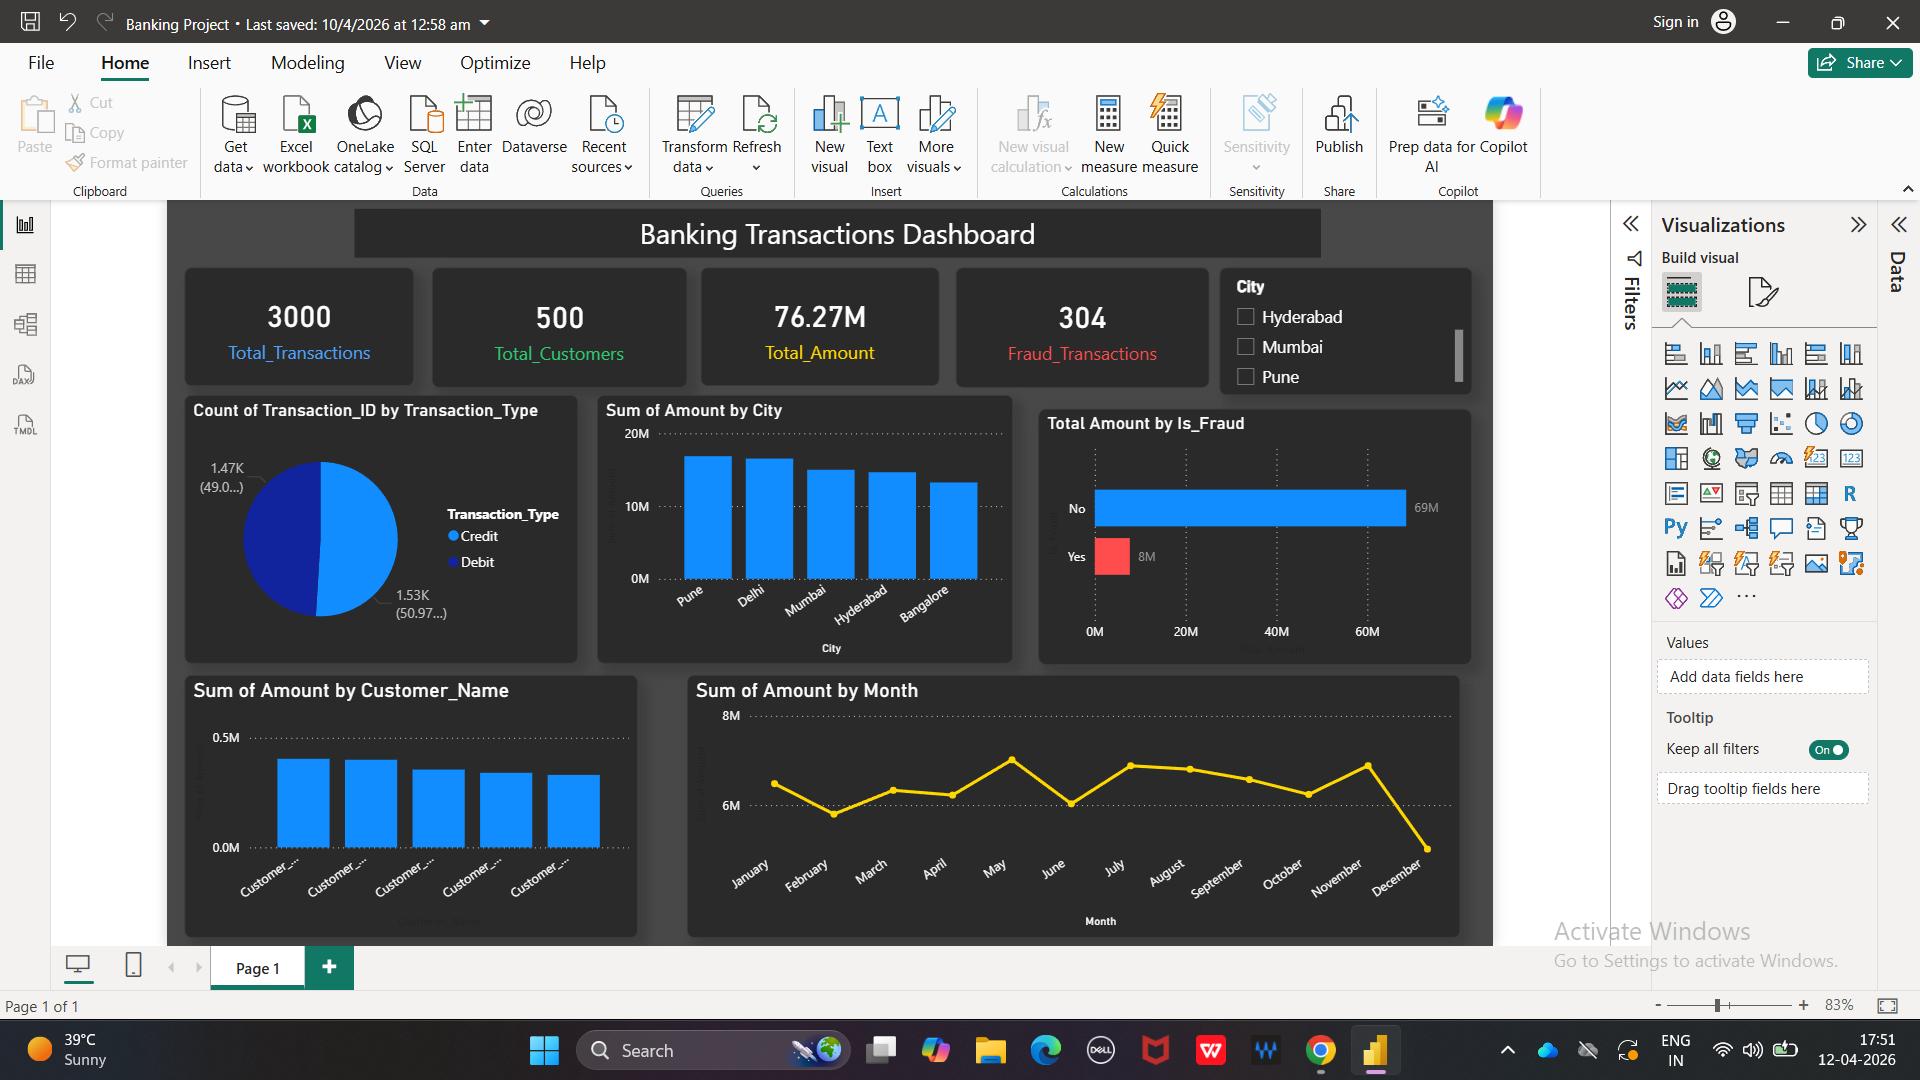

Layout of this report page (visuals, bound fields, positions):
{"tool":"powerbi","page":{"name":"Page 1","canvas":[1280,720],"ordinal":0},"visuals":[{"type":"card","fields":{"Values":["accounts.Total_Transactions"]},"box":[16.9,65.1,222,114.6],"z":0},{"type":"card","fields":{"Values":["accounts.Total_Amount"]},"box":[515.2,65.1,230.4,114.6],"z":1000},{"type":"card","fields":{"Values":["accounts.Total_Customers"]},"box":[255.8,65.1,246.1,115.8],"z":2000},{"type":"card","fields":{"Values":["accounts.Fraud_Transactions"]},"box":[761.3,65.1,244.9,115.8],"z":3000},{"type":"pieChart","fields":{"Category":["transactions.Transaction_Type"],"Y":["Count(transactions.Transaction_ID)"]},"box":[16.9,188.2,380,259.4],"z":4000},{"type":"clusteredColumnChart","fields":{"Category":["customers.Customer_Name"],"Y":["Sum(transactions.Amount)"]},"box":[16.9,458.4,437.9,253.4],"z":5000},{"type":"clusteredColumnChart","fields":{"Category":["customers.City"],"Y":["Sum(transactions.Amount)"]},"box":[415,188.2,401.7,259.4],"z":6000},{"type":"lineChart","fields":{"Y":["Sum(transactions.Amount)"],"Category":["transactions.Final_Date.Variation.Date Hierarchy.Month"]},"box":[501.9,458.4,746.8,253.4],"z":7000},{"type":"clusteredBarChart","fields":{"Y":["Sum(transactions.Amount)"],"Category":["transactions.Is_Fraud"]},"box":[840.9,201.5,418.6,247.3],"z":8000},{"type":"slicer","fields":{"Values":["customers.City"]},"box":[1015.8,65.1,243.7,123.1],"z":9000},{"type":"textbox","box":[181,8.4,932.6,47.1],"z":9002}]}

Visuals, with their boxes on the page's 1280x720 design canvas (x1, y1, x2, y2). These are canvas units, not pixel positions in the 1920x1080 screenshot, which may show the page scaled, cropped or inside an application window:
card - accounts.Total_Transactions: rect(17, 65, 239, 180)
card - accounts.Total_Amount: rect(515, 65, 746, 180)
card - accounts.Total_Customers: rect(256, 65, 502, 181)
card - accounts.Fraud_Transactions: rect(761, 65, 1006, 181)
pieChart - transactions.Transaction_Type x Count(transactions.Transaction_ID): rect(17, 188, 397, 448)
clusteredColumnChart - customers.Customer_Name x Sum(transactions.Amount): rect(17, 458, 455, 712)
clusteredColumnChart - customers.City x Sum(transactions.Amount): rect(415, 188, 817, 448)
lineChart - Sum(transactions.Amount) x transactions.Final_Date.Variation.Date Hierarchy.Month: rect(502, 458, 1249, 712)
clusteredBarChart - Sum(transactions.Amount) x transactions.Is_Fraud: rect(841, 202, 1260, 449)
slicer - customers.City: rect(1016, 65, 1260, 188)
textbox: rect(181, 8, 1114, 56)
